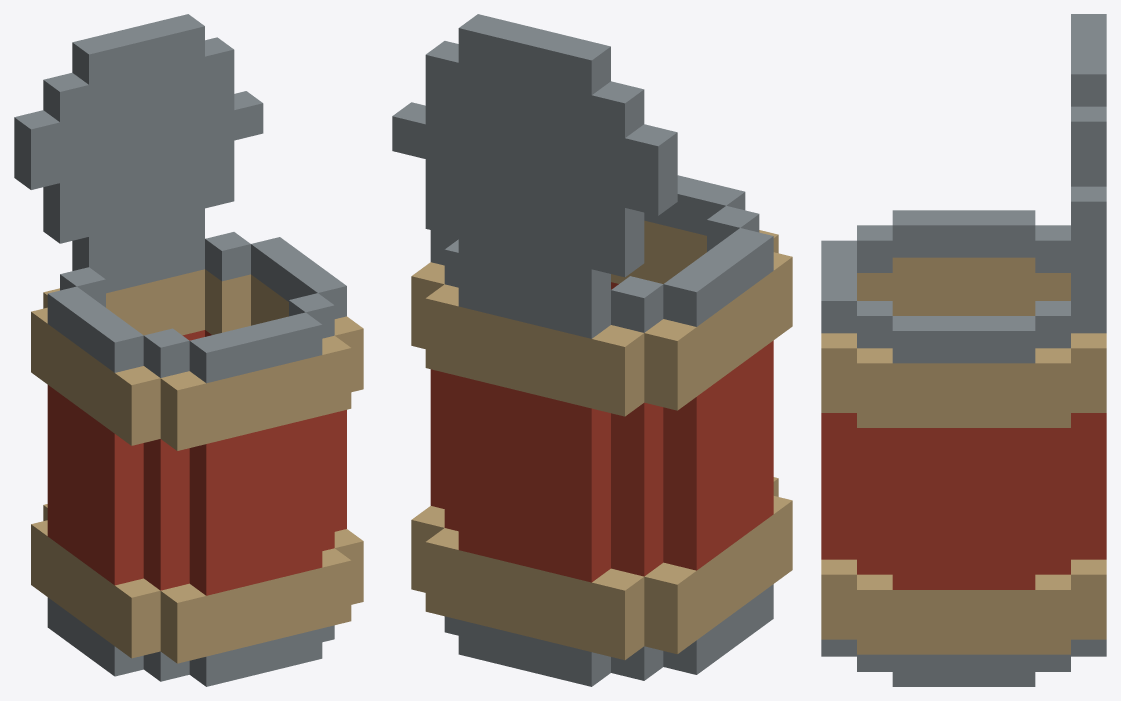
File: empty_can.glb
The picture shows the model from 3 angles, left to right: view 1: azimuth 30°, elevation 25°; view 2: azimuth 150°, elevation 25°; view 3: azimuth 270°, elevation 25°; orthographic projection. The views are drawn at different scales.
Parts seen in each view (by area): view 1: body:openTin; view 2: body:openTin; view 3: body:openTin.
Boxes of the visible parts, box(x1,y1,x2,y2) form: body:openTin: box(14, 14, 363, 686); body:openTin: box(392, 14, 792, 686); body:openTin: box(821, 14, 1106, 686).
Size of the model in its own units: 0.08 by 0.18 by 0.08.
